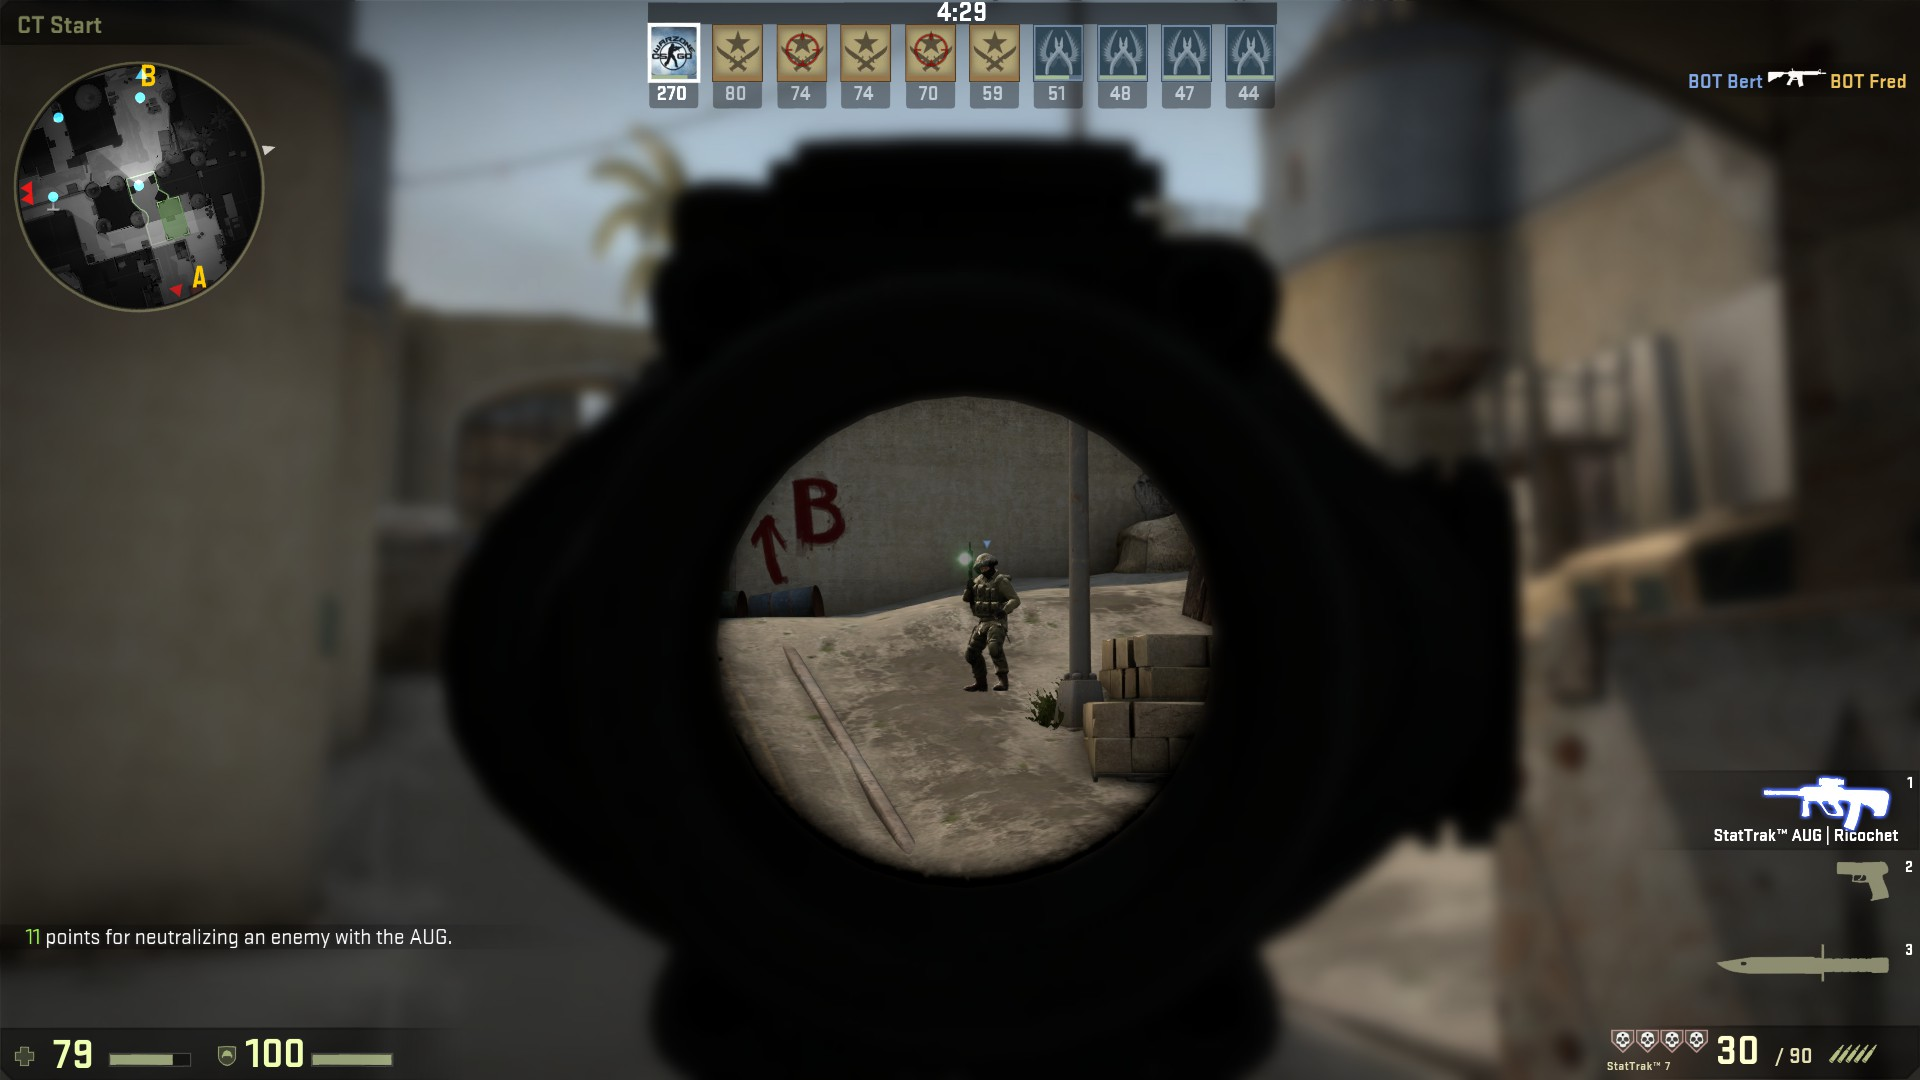c: (961, 551, 1013, 694)
ch: (971, 553, 1000, 580)
